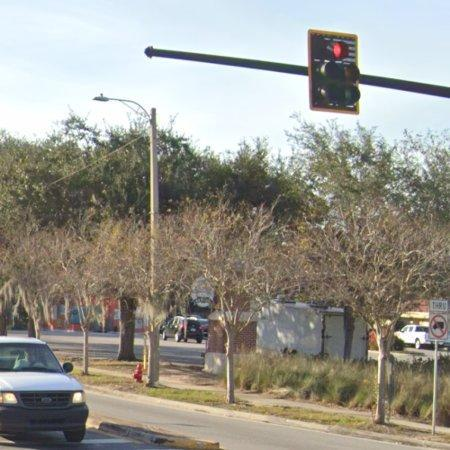traffic lights: (308, 27, 362, 115)
